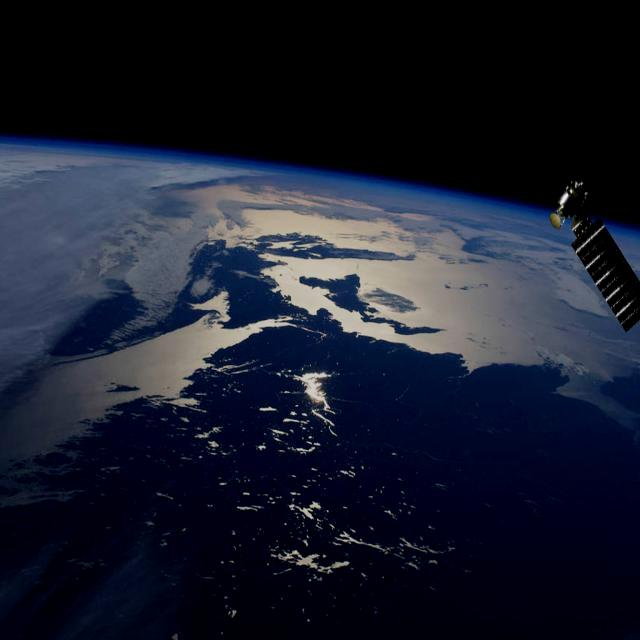satellite: (508, 93, 640, 331)
